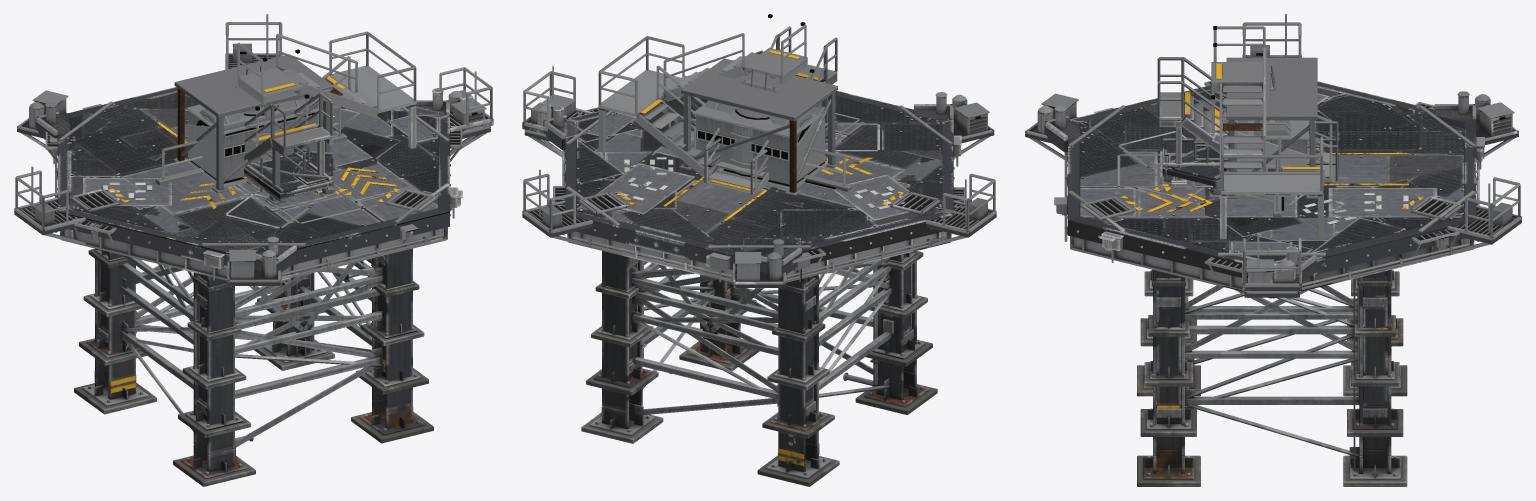
Rendered from settlement.glb.
3 views of the same model, side by side, from view 1: azimuth 30°, elevation 25°; view 2: azimuth 150°, elevation 25°; view 3: azimuth 270°, elevation 25° (orthographic). The views are drawn at different scales.
Parts seen in each view (by area): view 1: legs-5, deck-a, deck-b, deck-d, legs-4, deck-c, stair-2, legs-3, frame, stair-ground, mod-cabin, mod-shed (+5 smaller); view 2: legs-5, deck-a, deck-b, deck-d, deck-c, legs-4, stair-2, frame, legs-3, mod-cabin, mod-shed, legs-2 (+6 smaller); view 3: deck-a, deck-d, deck-b, legs-5, legs-4, deck-c, stair-2, legs-3, frame, stair-ground, walk-turn-60, legs-2 (+7 smaller).
Boxes of the visible parts, <box> form: legs-5: <box>74,248,433,486</box>; deck-a: <box>45,67,493,286</box>; deck-b: <box>14,91,490,249</box>; deck-d: <box>35,14,449,286</box>; legs-4: <box>79,250,428,437</box>; deck-c: <box>17,87,462,280</box>; stair-2: <box>237,31,416,148</box>; legs-3: <box>83,255,424,389</box>; frame: <box>173,54,334,193</box>; stair-ground: <box>244,92,332,204</box>; mod-cabin: <box>184,99,318,187</box>; mod-shed: <box>188,103,318,180</box>; legs-5: <box>581,251,937,486</box>; deck-a: <box>522,65,954,288</box>; deck-b: <box>524,94,996,282</box>; deck-d: <box>522,94,994,281</box>; deck-c: <box>543,91,961,288</box>; legs-4: <box>586,252,932,438</box>; stair-2: <box>598,14,807,191</box>; frame: <box>679,58,839,196</box>; legs-3: <box>591,252,927,390</box>; mod-cabin: <box>692,102,828,190</box>; mod-shed: <box>691,106,824,184</box>; legs-2: <box>595,251,923,342</box>; deck-a: <box>1044,81,1477,298</box>; deck-d: <box>1025,81,1521,256</box>; deck-b: <box>1080,14,1484,297</box>; legs-5: <box>1137,270,1407,486</box>; legs-4: <box>1140,271,1403,436</box>; deck-c: <box>1068,85,1518,282</box>; stair-2: <box>1211,26,1332,239</box>; legs-3: <box>1144,270,1399,386</box>; frame: <box>1226,57,1318,198</box>; stair-ground: <box>1157,57,1237,182</box>; walk-turn-60: <box>1160,147,1236,197</box>; legs-2: <box>1148,285,1395,336</box>.
Bounding box in the file's own units: 13.68 × 10.93 × 12.52.
37 materials, 37 textured.
